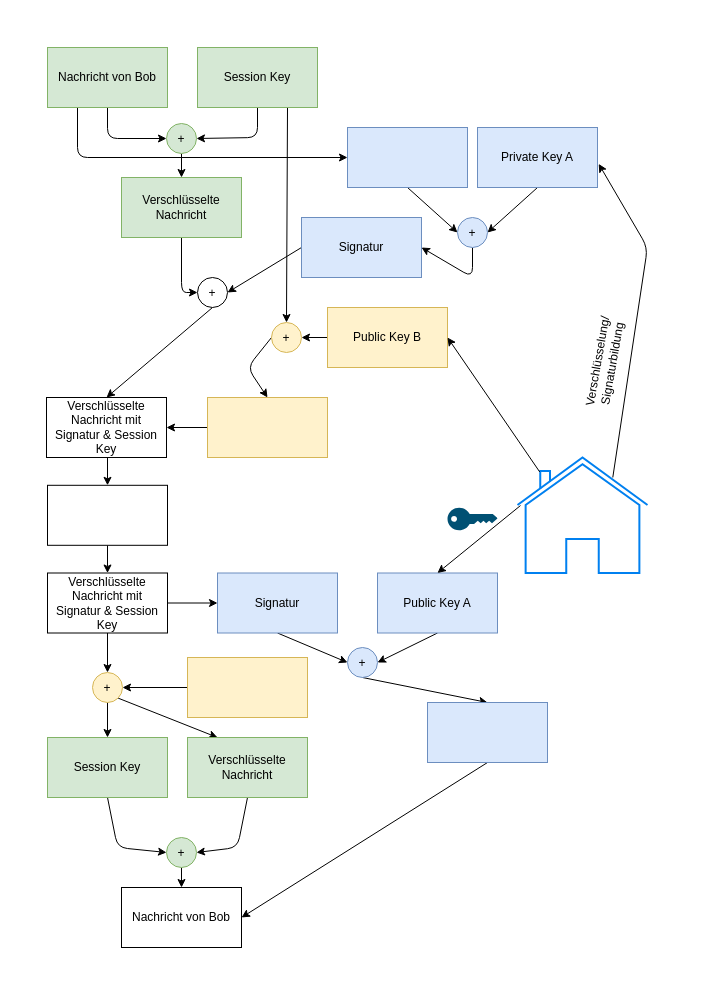
This 724x1004 diagram has some shape labels left out. Each missing label, with the centre of its shape:
"CA (Trustcenter)" belongs at (x=582, y=515).
"Digitale Signatur" belongs at (x=487, y=732).
"HASHwert" belongs at (x=407, y=157).
"Private Key B" belongs at (x=247, y=687).
"Verschlüsselter Session Key" belongs at (x=267, y=427).
"Übermittlung an Empfänger" belongs at (x=107, y=514).
